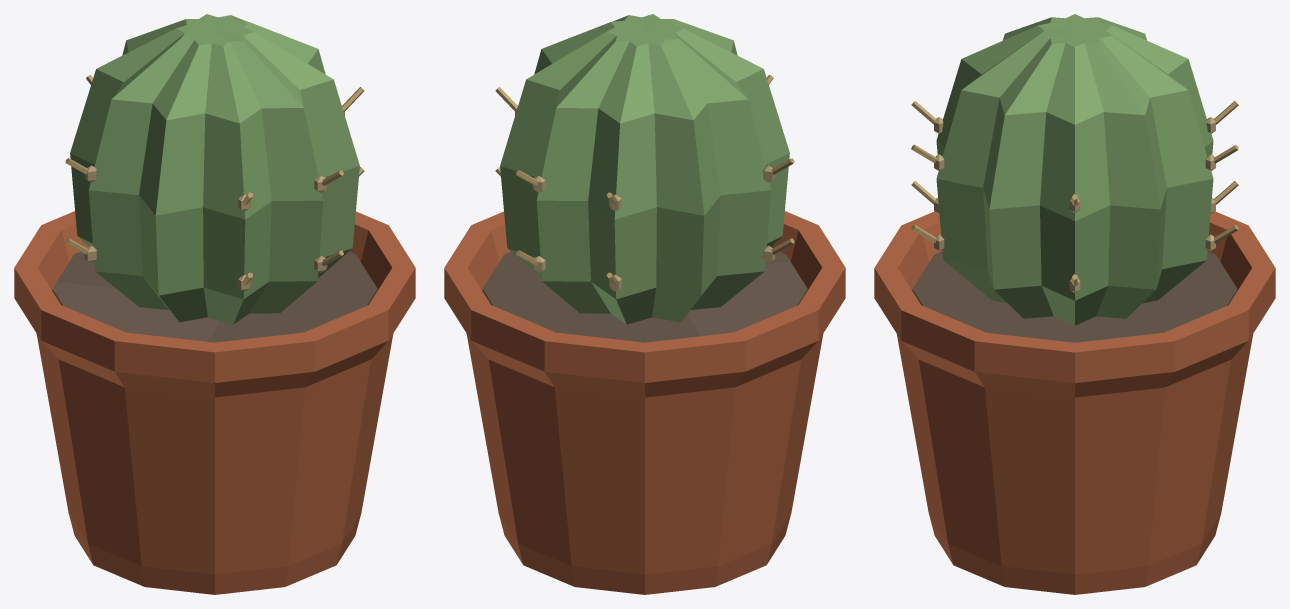
The model's file is new-subdenudata.glb.
The picture shows the model from 3 angles, left to right: view 1: azimuth 30°, elevation 25°; view 2: azimuth 150°, elevation 25°; view 3: azimuth 270°, elevation 25°; orthographic projection.
Parts seen in each view (by area): view 1: new-subdenudata/review-terra-vessel, new-subdenudata/ribbed-stem-001, new-subdenudata/review-rooted-soil; view 2: new-subdenudata/review-terra-vessel, new-subdenudata/ribbed-stem-001, new-subdenudata/review-rooted-soil; view 3: new-subdenudata/review-terra-vessel, new-subdenudata/ribbed-stem-001, new-subdenudata/review-rooted-soil.
Boxes of the visible parts, x1,y1,x2,y2 form: new-subdenudata/review-terra-vessel: (14, 211, 415, 594); new-subdenudata/ribbed-stem-001: (70, 14, 359, 324); new-subdenudata/review-rooted-soil: (52, 251, 377, 342); new-subdenudata/review-terra-vessel: (444, 211, 845, 594); new-subdenudata/ribbed-stem-001: (500, 14, 789, 324); new-subdenudata/review-rooted-soil: (482, 251, 807, 342); new-subdenudata/review-terra-vessel: (874, 211, 1275, 594); new-subdenudata/ribbed-stem-001: (936, 14, 1213, 325); new-subdenudata/review-rooted-soil: (912, 251, 1237, 342).
Bounding box in the file's own units: 0.19 × 0.264 × 0.19.
Materials: 5 (5 with a texture image).
